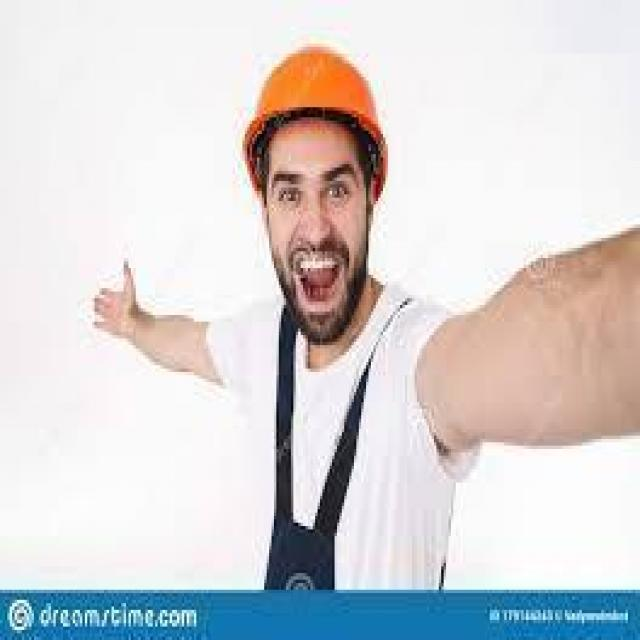hat: (242, 40, 388, 187)
